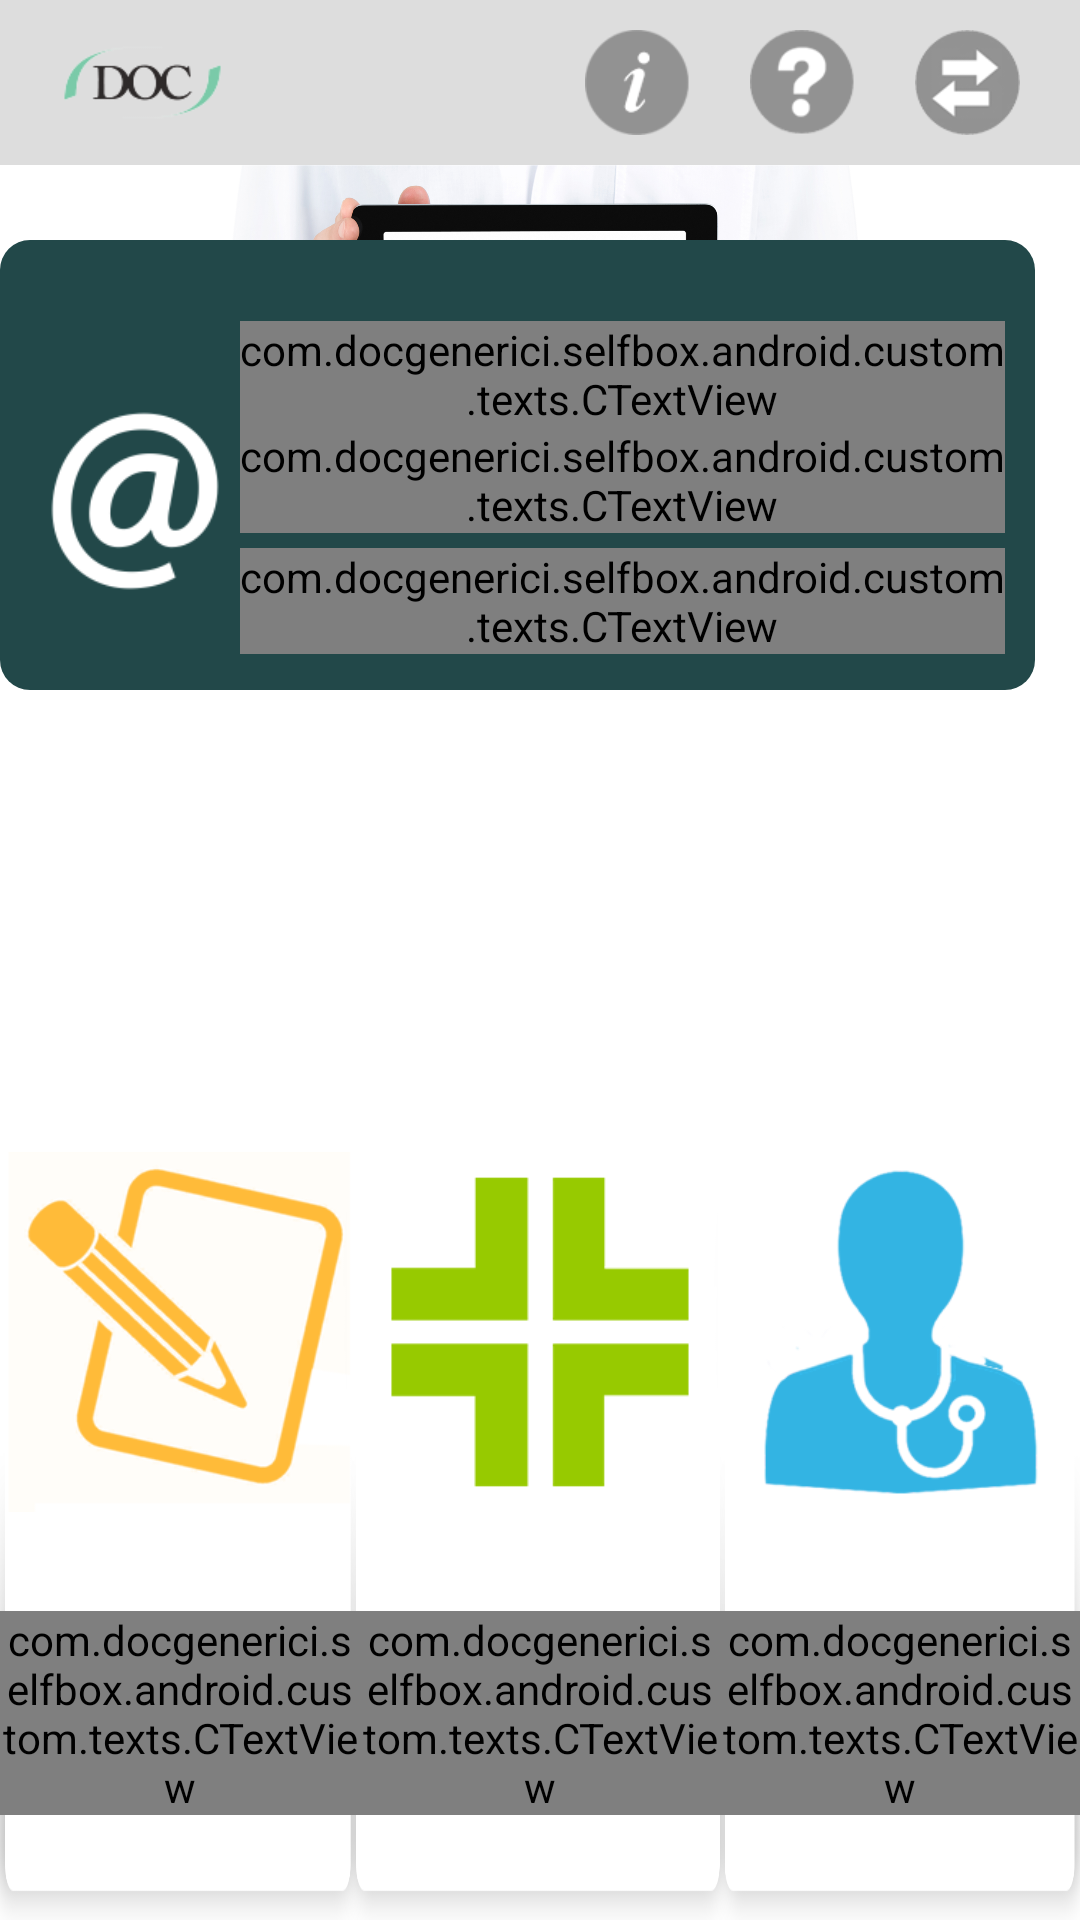

Named icons in this screenshot (1080×1920) and their centers, (x=x, y=y):
email: (x=135, y=501)
farmacia home: (x=540, y=1332)
help: (x=802, y=82)
info: (x=637, y=82)
medico home: (x=900, y=1332)
sync: (x=967, y=82)
